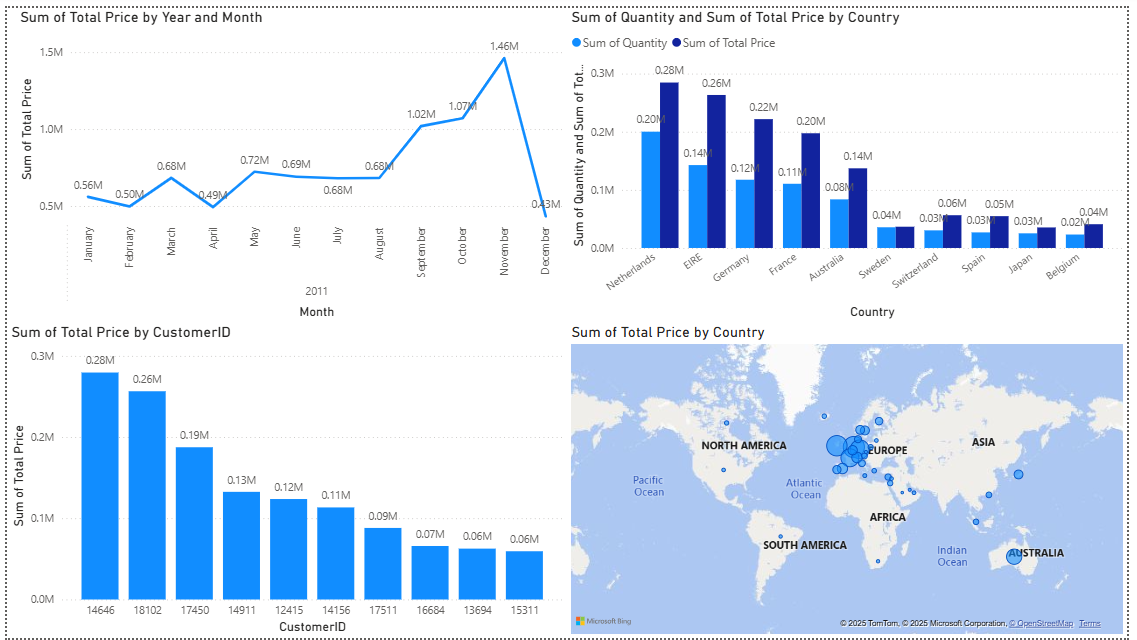

Layout of this report page (visuals, bound fields, positions):
{"tool":"powerbi","page":{"name":"Page 5","canvas":[1280,720],"ordinal":4},"visuals":[{"type":"lineChart","fields":{"Category":["Online Retail.InvoiceDate.Variation.Date Hierarchy.Year","Online Retail.InvoiceDate.Variation.Date Hierarchy.Month"],"Y":["Sum(Online Retail.Total Price)"]},"box":[10,0,630,360],"z":0},{"type":"clusteredColumnChart","fields":{"Category":["Online Retail.Country"],"Y":["Sum(Online Retail.Quantity)","Sum(Online Retail.Total Price)"]},"box":[640,0,640,360],"z":1},{"type":"columnChart","fields":{"Category":["Online Retail.CustomerID"],"Y":["Sum(Online Retail.Total Price)"]},"box":[0,360,640,360],"z":2},{"type":"map","fields":{"Category":["Online Retail.Country"],"Size":["Sum(Online Retail.Total Price)"]},"box":[640,360,640,360],"z":3}]}

Visuals, with their boxes in screenshot pixels (x1, y1, x2, y2), scaled from the page's 1280x720 canvas onto the 1137x640 screenshot:
lineChart - Online Retail.InvoiceDate.Variation.Date Hierarchy.Year x Online Retail.InvoiceDate.Variation.Date Hierarchy.Month: [left=9, top=0, right=568, bottom=320]
clusteredColumnChart - Online Retail.Country x Sum(Online Retail.Quantity): [left=568, top=0, right=1136, bottom=320]
columnChart - Online Retail.CustomerID x Sum(Online Retail.Total Price): [left=0, top=320, right=568, bottom=639]
map - Online Retail.Country x Sum(Online Retail.Total Price): [left=568, top=320, right=1136, bottom=639]
